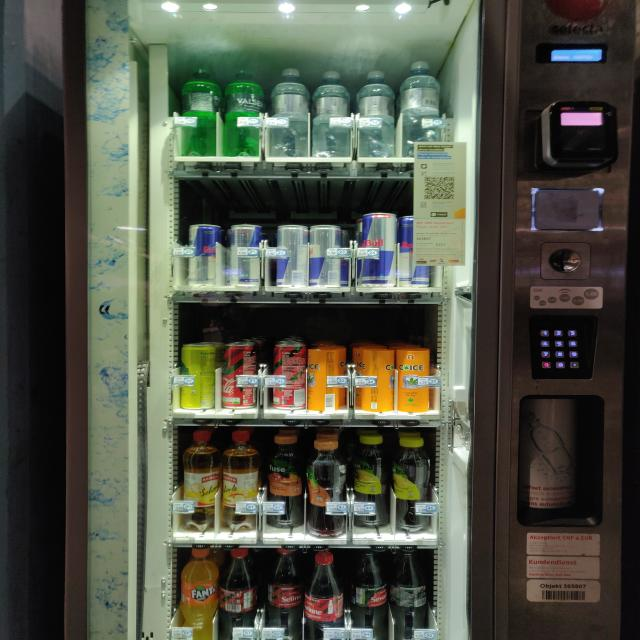c-swiss_dosenabisicetea__33__9120025930135: (307, 348, 349, 412), (356, 348, 396, 410), (396, 348, 434, 411)
coke__dose_33__54491472: (218, 343, 258, 408), (269, 344, 310, 407)
coke__flasche_50__54491472: (216, 549, 264, 636), (302, 551, 345, 640), (266, 551, 304, 640)
coke_zero_flasche_50__5449000131836: (347, 550, 392, 640), (394, 548, 437, 640)
fanta___50__40822938: (173, 546, 220, 640)
fuse_lemon__50__5449000235947: (390, 434, 438, 530), (356, 432, 394, 530)
fuse_lemon_dose_33__5449000235947: (176, 341, 219, 411)
fuse_peach__50__5449000236623: (301, 439, 355, 536), (262, 436, 306, 530)
ramseier_schorle__50__7610057012456: (218, 431, 266, 531), (179, 431, 220, 531)
redbull___33__90162909: (360, 210, 399, 283), (182, 223, 227, 285), (228, 225, 266, 285), (274, 223, 309, 284), (311, 226, 344, 288)
valser_still__50__7610335002575: (402, 62, 444, 157), (313, 67, 354, 158), (270, 67, 310, 156), (356, 69, 394, 160)
volvic_pinapple__50__305764335648: (224, 69, 265, 157), (180, 69, 220, 157)
